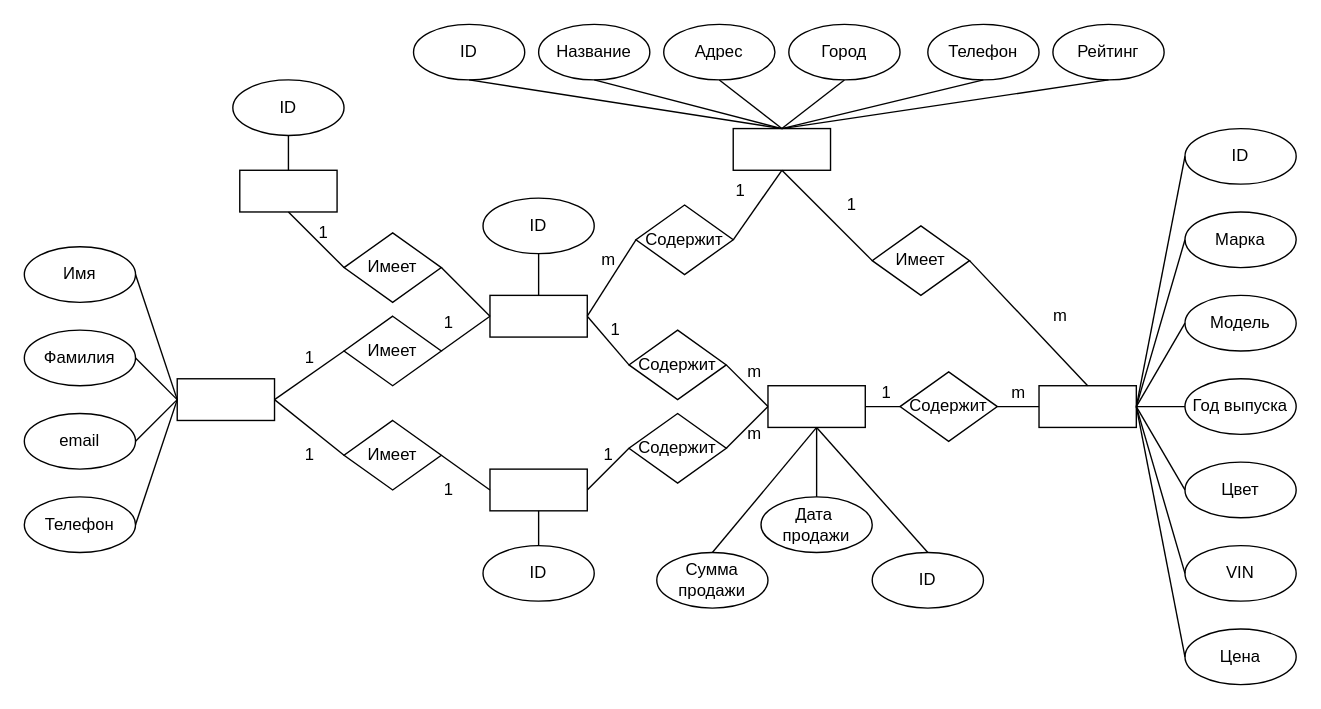
Image size: 1321x709. Some labels were removed from this diagram. The shapes that lost their labels are listed below. From the top down, each one's box as (x1, y1, x2, y2) in pixels, then its label:
(732, 127, 831, 170): Автосалон
(238, 169, 337, 212): Квалифи- кация
(489, 294, 587, 337): Продавец
(176, 377, 275, 420): Контактные данные
(767, 384, 865, 427): ДКП
(1038, 384, 1136, 427): Автомобиль
(489, 468, 587, 511): Покупатель
